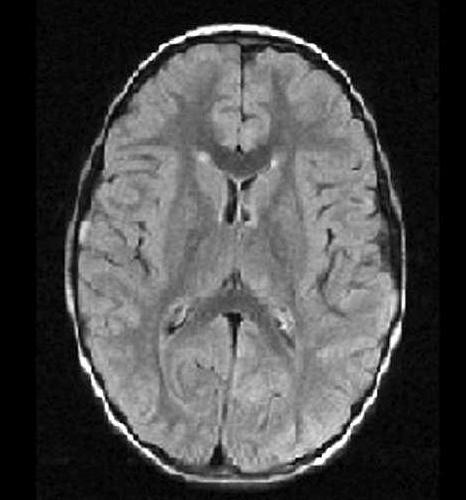Normal_Brain: (1, 1, 466, 500)
